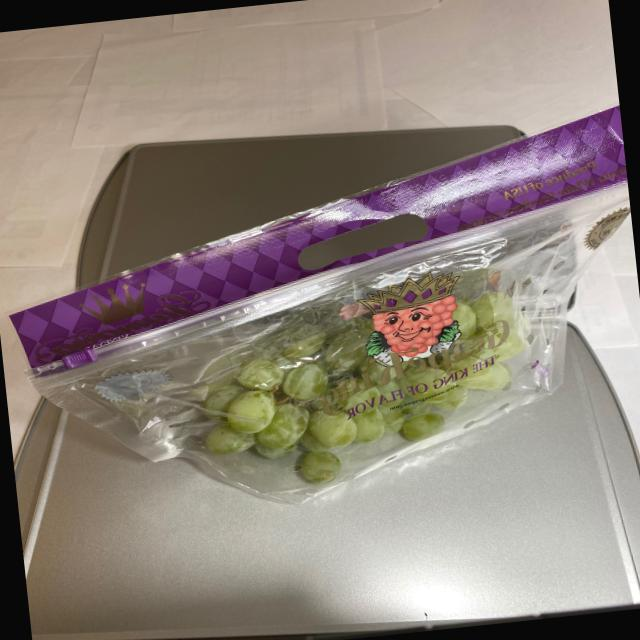grapes: (156, 294, 554, 488)
